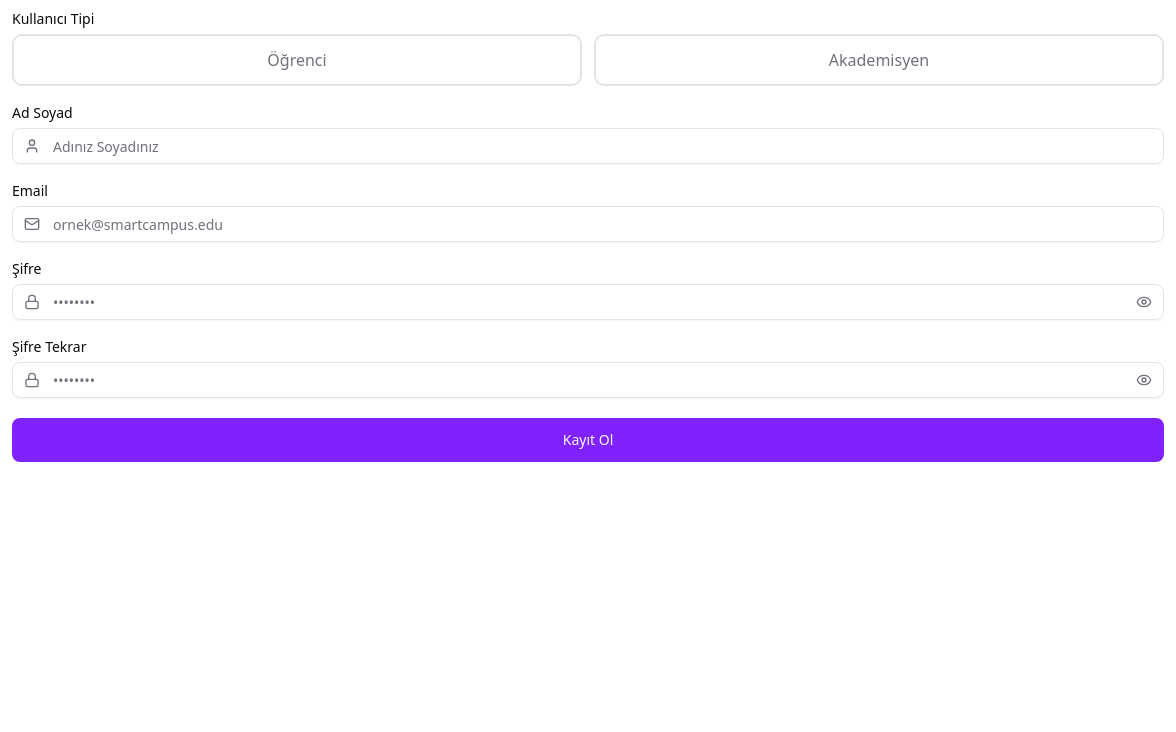
it: RegisterForm › should show student specific fields when Student is selected
Click the button "Öğrenci": (297,60) [12, 34, 582, 86]
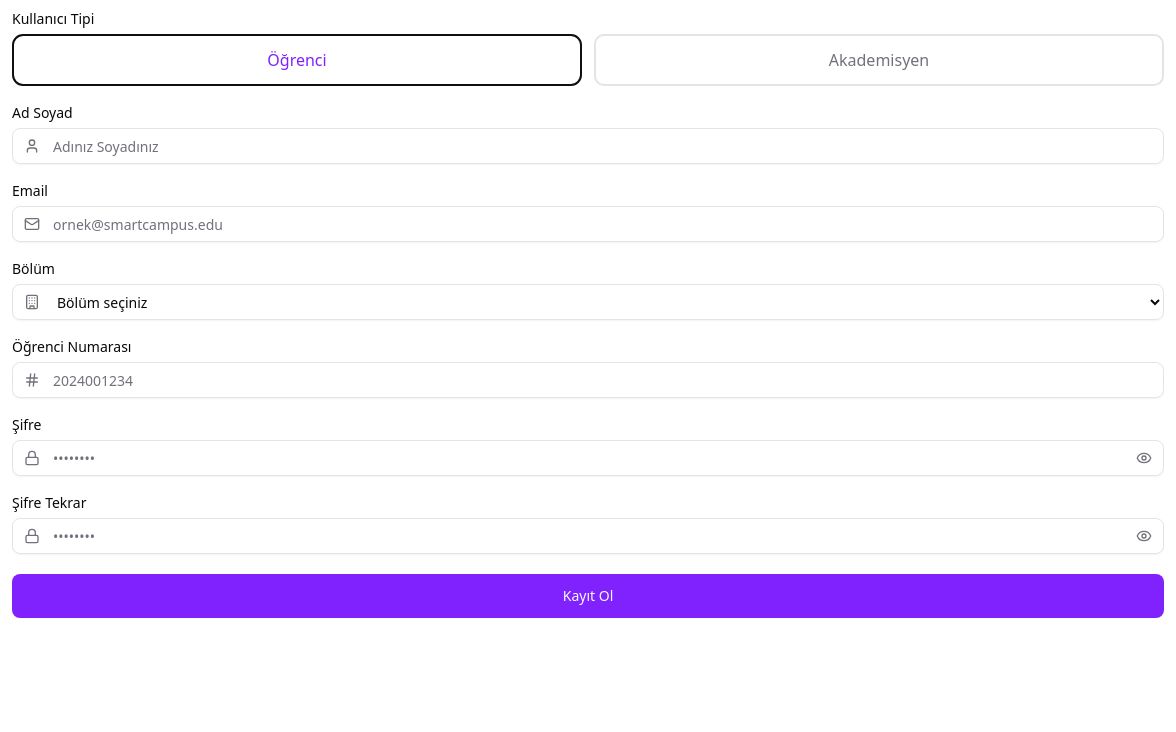
Expected: the field with placeholder "2024001234" is shown, [12, 362, 1164, 398]
